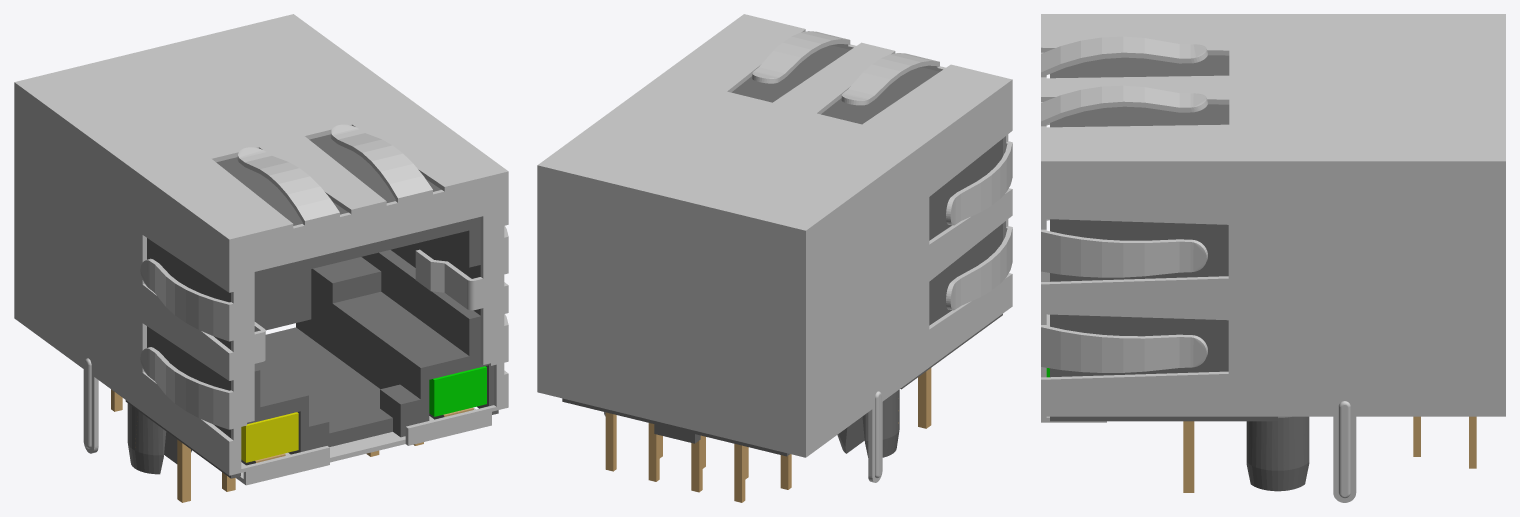
The picture shows the model from 3 angles, left to right: view 1: azimuth 30°, elevation 25°; view 2: azimuth 150°, elevation 25°; view 3: azimuth 270°, elevation 25°; orthographic projection. The views are drawn at different scales.
Parts seen in each view (by area): view 1: MJF13T36L-KF06B3YG-0808-LF; view 2: MJF13T36L-KF06B3YG-0808-LF; view 3: MJF13T36L-KF06B3YG-0808-LF.
Part boxes in pixels (x1=…): MJF13T36L-KF06B3YG-0808-LF: x1=14, y1=14, x2=508, y2=502; MJF13T36L-KF06B3YG-0808-LF: x1=537, y1=14, x2=1012, y2=502; MJF13T36L-KF06B3YG-0808-LF: x1=1041, y1=14, x2=1505, y2=502.
Size of the model in its own units: 17.76 by 21.2 by 18.13.
